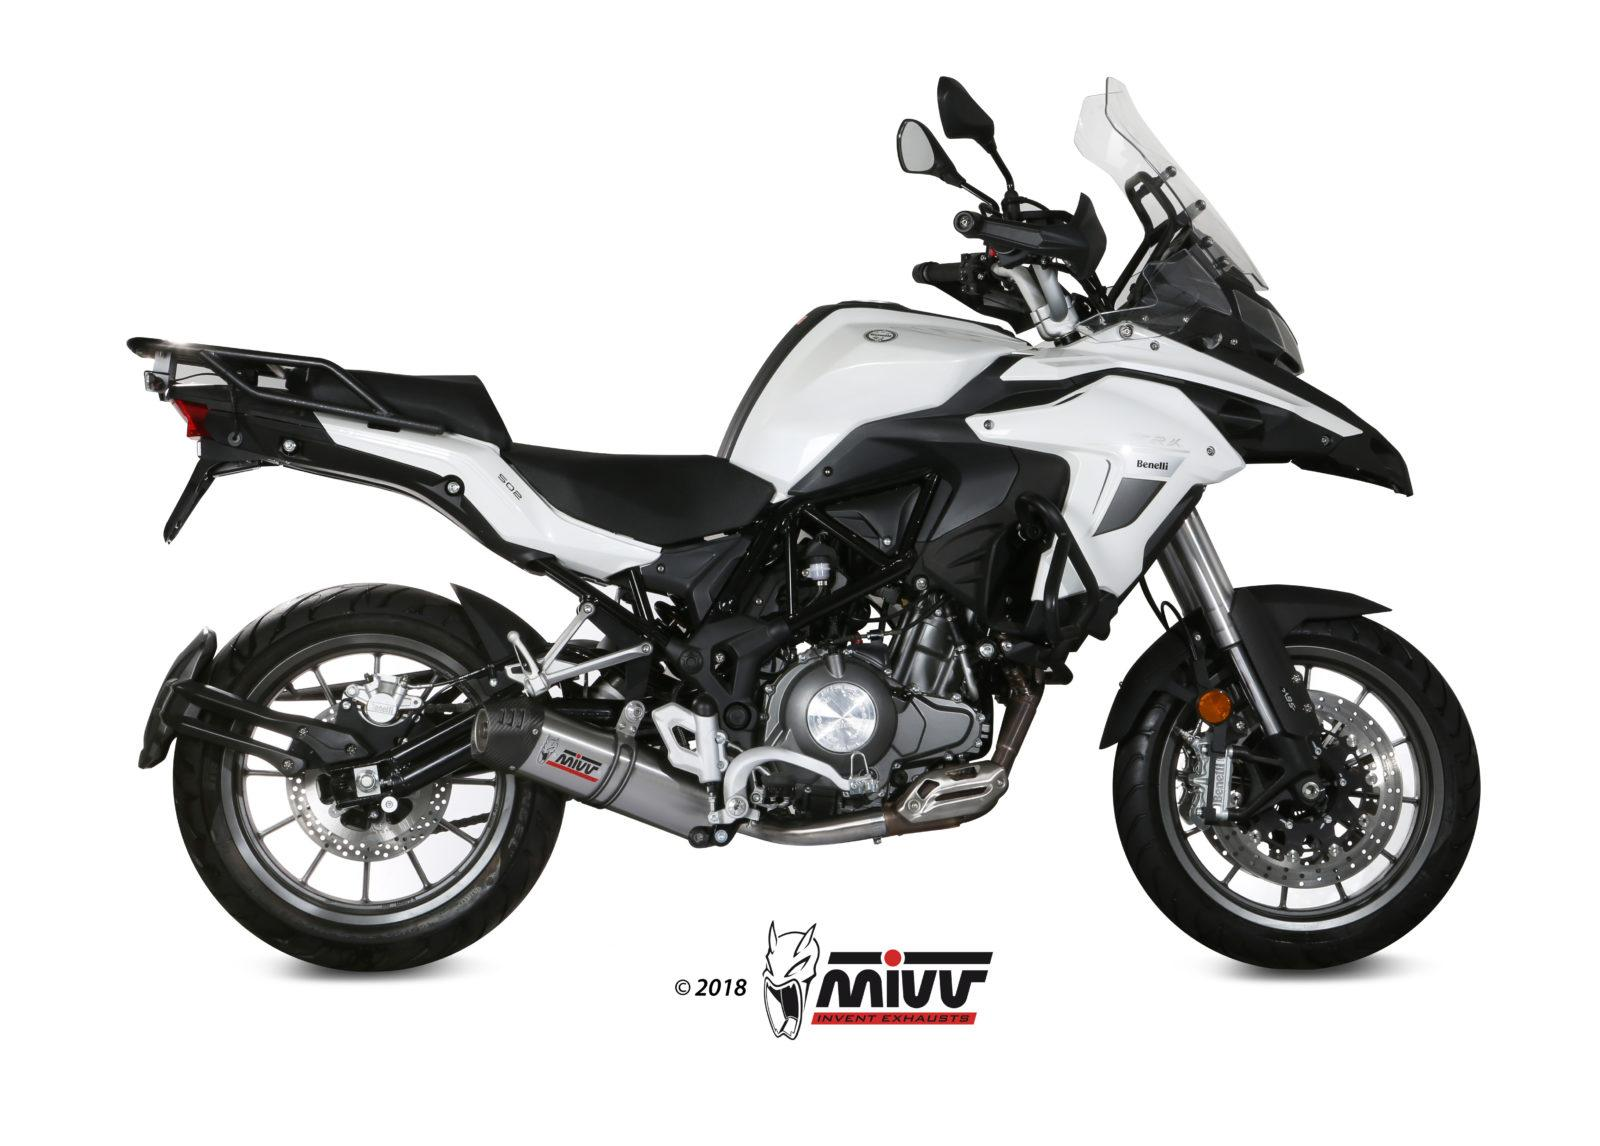engine-chasis: (620, 496, 1018, 825), (654, 590, 700, 644), (588, 662, 626, 700)
exhaust: (469, 664, 1046, 848)
frontside: (788, 77, 1414, 826)
handlebar: (897, 76, 1114, 342), (1118, 272, 1156, 309), (1158, 226, 1194, 260)
motorbike: (128, 76, 1482, 970)
rearside: (125, 336, 703, 757), (138, 625, 480, 810)
seat: (344, 370, 776, 546)
tank: (717, 299, 1042, 505)
watermark: (670, 919, 996, 1041)
wheel: (1111, 616, 1481, 971), (172, 735, 567, 972), (203, 582, 492, 752), (398, 654, 518, 735), (1137, 574, 1198, 661), (430, 810, 491, 835)
